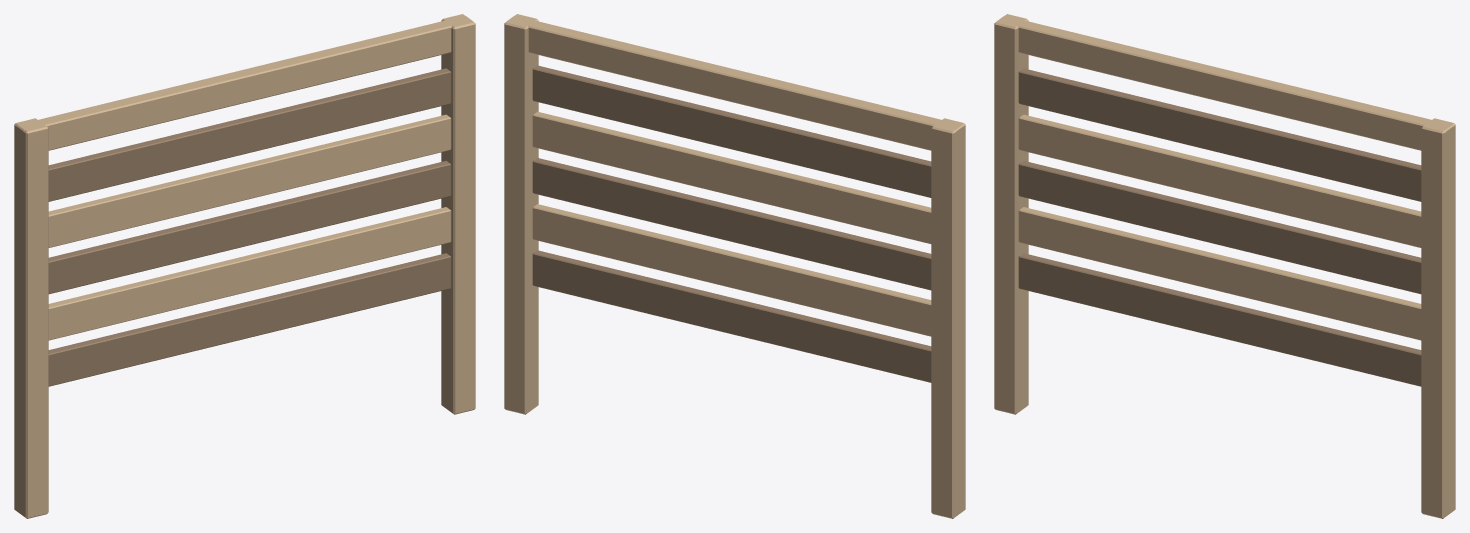
File: bedroom-and-living-room-furniture-headboard-timber-dou-620639f9.glb
3 views of the same model, side by side, from view 1: azimuth 30°, elevation 25°; view 2: azimuth 150°, elevation 25°; view 3: azimuth 330°, elevation 25° (orthographic).
Parts seen in each view (by area): view 1: headboard-timber-double; view 2: headboard-timber-double; view 3: headboard-timber-double.
Boxes of the visible parts, x1,y1,x2,y2 form: headboard-timber-double: [14, 14, 475, 518]; headboard-timber-double: [504, 14, 965, 518]; headboard-timber-double: [994, 14, 1455, 518].
Bounding box in the file's own units: 1.58 × 1.3 × 0.08.
